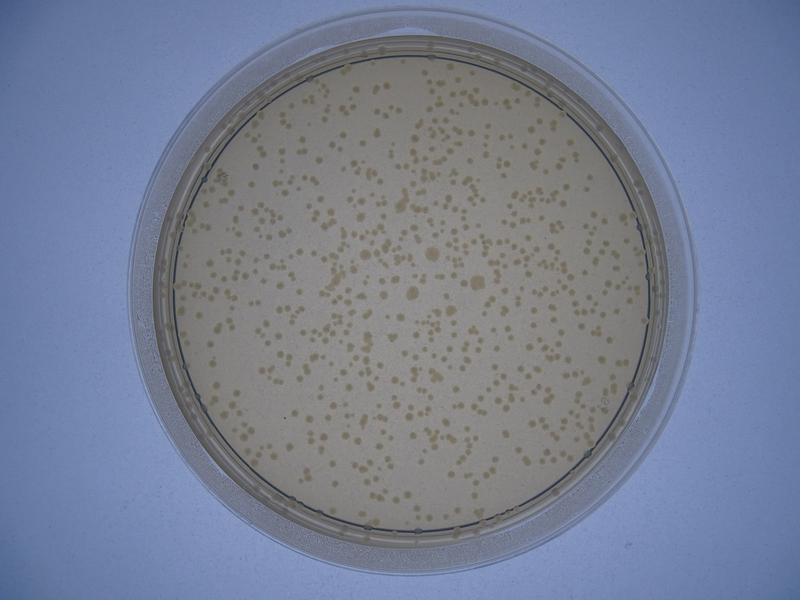colony: (326, 477, 341, 489), (526, 319, 541, 330), (444, 468, 457, 480), (578, 265, 590, 278), (488, 359, 500, 372), (526, 416, 537, 430), (283, 442, 296, 453), (274, 280, 285, 292), (357, 138, 368, 149), (208, 358, 219, 369), (339, 129, 349, 140), (247, 179, 258, 189), (290, 406, 299, 418), (314, 155, 323, 166), (250, 163, 261, 172), (582, 184, 591, 194), (526, 124, 535, 134), (383, 79, 391, 90)
